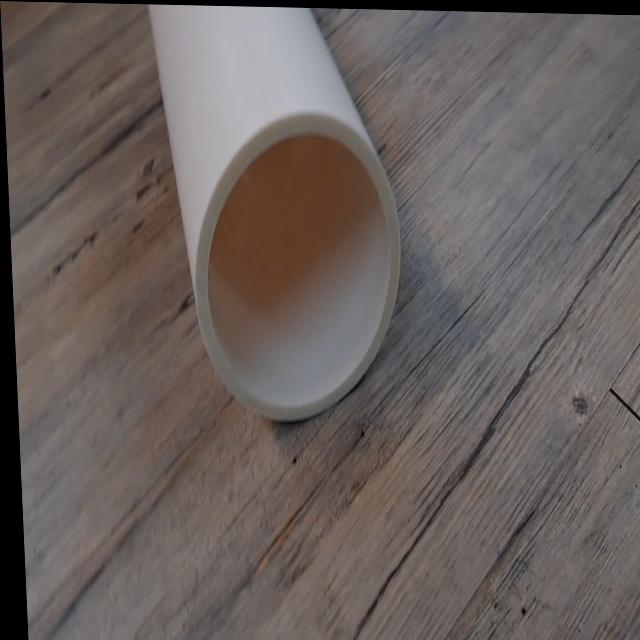CORAL: (134, 3, 417, 441)
